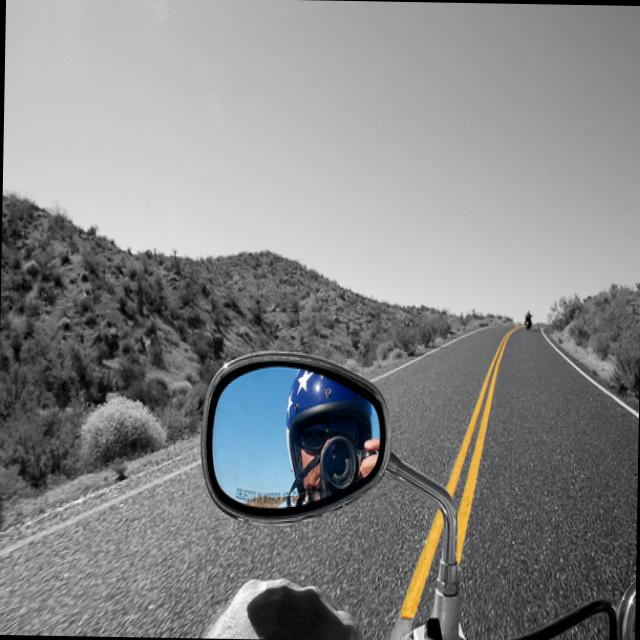Vehicle: (195, 344, 639, 640), (525, 320, 529, 330)
